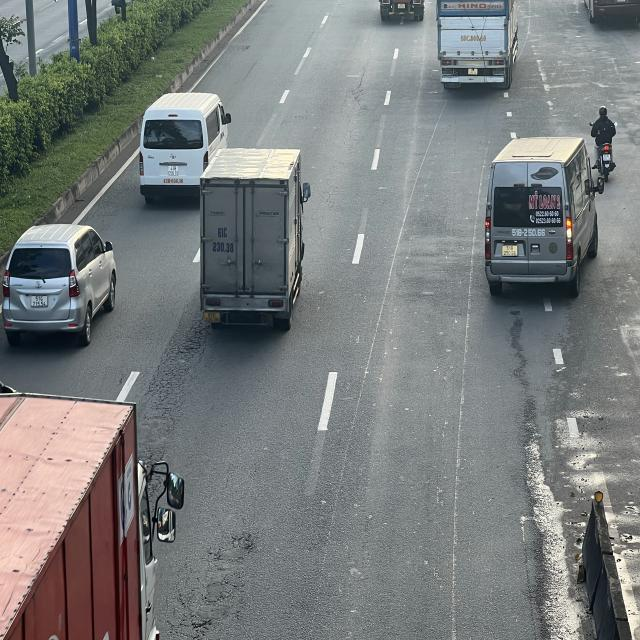car: (3, 223, 119, 345)
truck: (196, 146, 309, 330), (435, 0, 522, 89)
van: (487, 137, 605, 296), (141, 93, 234, 201)
